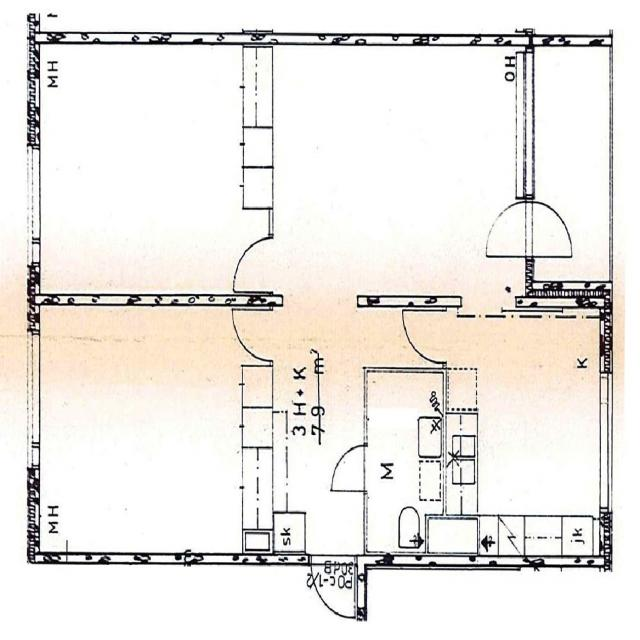door: (310, 555, 354, 628), (525, 201, 574, 256), (485, 201, 534, 256), (229, 238, 273, 292), (405, 310, 446, 362), (232, 310, 273, 361), (332, 446, 368, 490)
